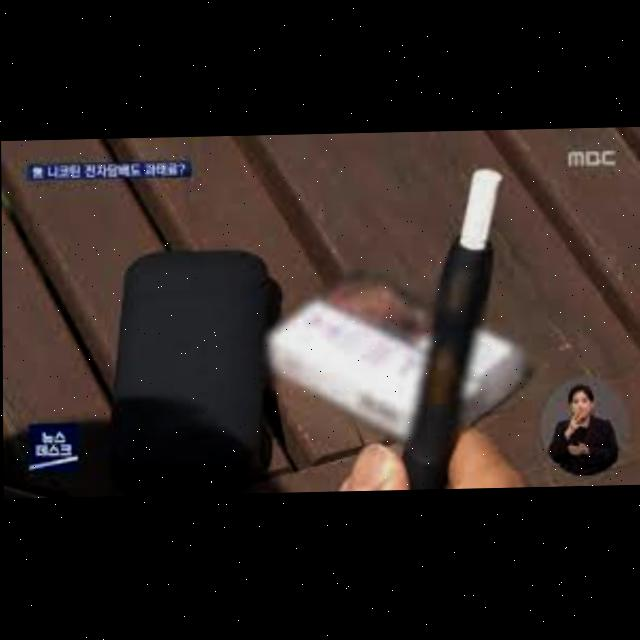vape: (402, 168, 508, 492)
